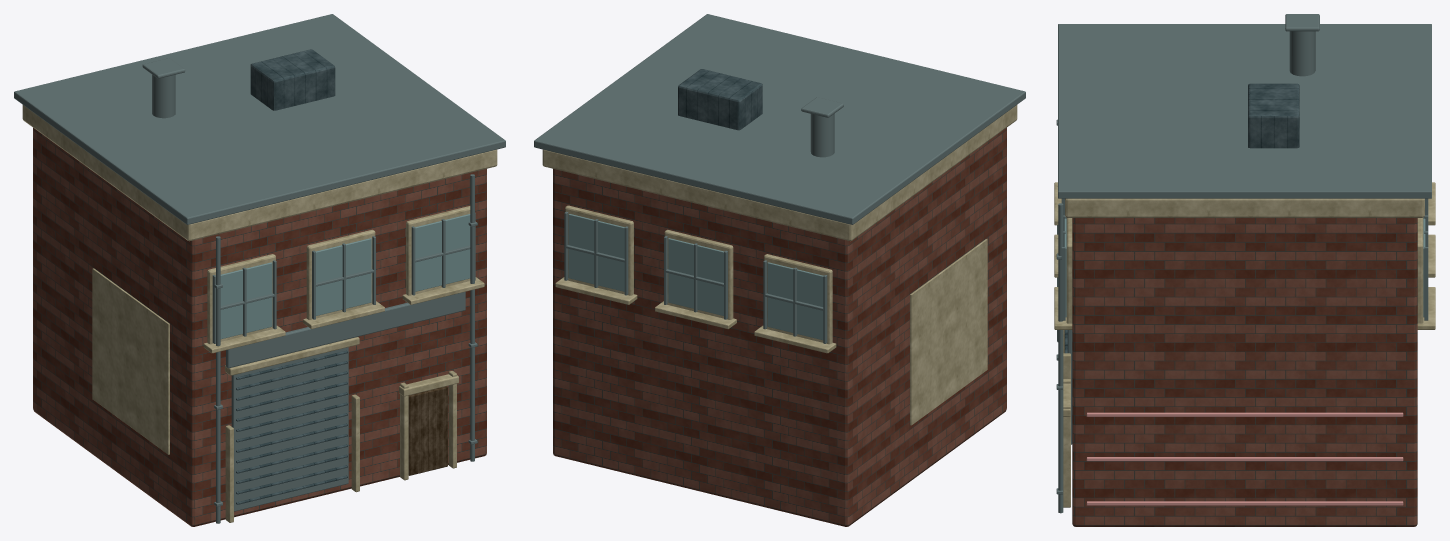
The model's file is kong-studio.glb.
3 views of the same model, side by side, from view 1: azimuth 30°, elevation 25°; view 2: azimuth 150°, elevation 25°; view 3: azimuth 270°, elevation 25° (orthographic). The views are drawn at different scales.
Parts seen in each view (by area): view 1: KongStudio_Weathered iron, KongStudio_brick, KongStudio_plaster, KongStudio_Warm glass, KongStudio_roof, KongStudio_wood; view 2: KongStudio_brick, KongStudio_Weathered iron, KongStudio_plaster, KongStudio_Warm glass, KongStudio_roof; view 3: KongStudio_brick, KongStudio_Weathered iron, KongStudio_plaster, KongStudio_Coral paint, KongStudio_roof, KongStudio_Warm glass.
Part boxes in pixels (x1,y1,x2,y2): KongStudio_Weathered iron: (14, 14, 505, 523); KongStudio_brick: (33, 128, 486, 526); KongStudio_plaster: (22, 105, 497, 522); KongStudio_Warm glass: (220, 214, 470, 339); KongStudio_roof: (236, 49, 347, 504); KongStudio_wood: (408, 386, 447, 475); KongStudio_brick: (553, 128, 1006, 526); KongStudio_Weathered iron: (534, 14, 1025, 343); KongStudio_plaster: (542, 105, 1017, 425); KongStudio_Warm glass: (568, 214, 823, 340); KongStudio_roof: (678, 69, 762, 130); KongStudio_brick: (1072, 218, 1417, 526); KongStudio_Weathered iron: (1056, 14, 1431, 513); KongStudio_plaster: (1054, 182, 1435, 507); KongStudio_Coral paint: (1086, 412, 1403, 505); KongStudio_roof: (1064, 83, 1299, 353); KongStudio_Warm glass: (1064, 217, 1425, 317).
Size of the model in its own units: 13.8 by 15.08 by 13.24.
7 materials, 4 textured.
